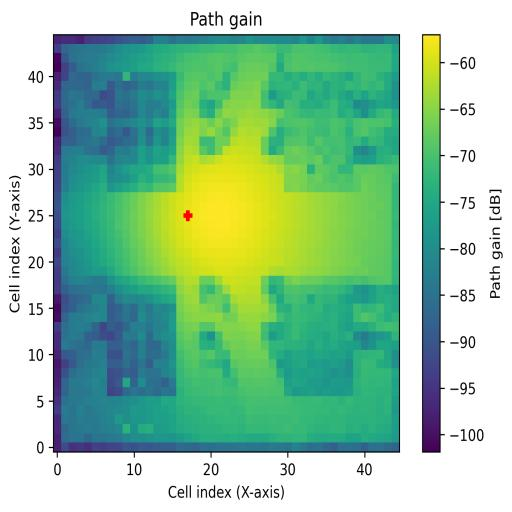Concrete: (284, 72, 360, 192)
Glass: (106, 74, 176, 194)
Metal: (284, 276, 354, 396)
Wood: (107, 276, 177, 398)
